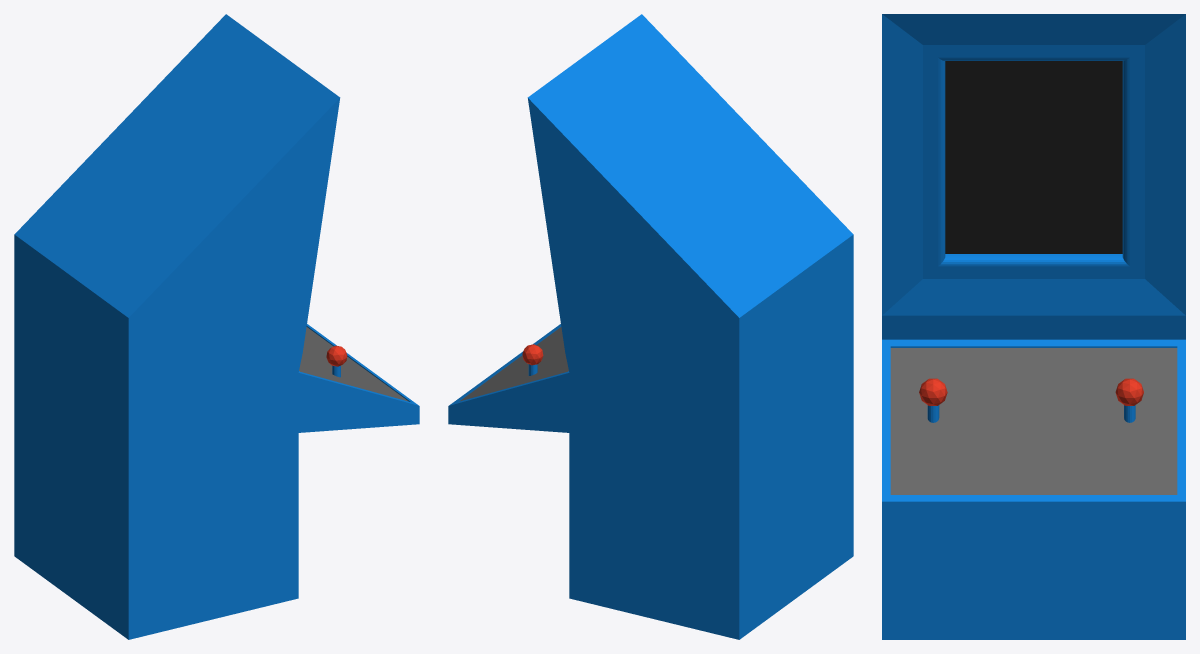
Rendered from arcade1.fbx.
3 renders of one model, left to right at view 1: azimuth 30°, elevation 25°; view 2: azimuth 150°, elevation 25°; view 3: azimuth 270°, elevation 25°, orthographic. The views are drawn at different scales.
Visible parts, largest first — view 1: Arcade; view 2: Arcade; view 3: Arcade.
Part boxes in pixels (x1,y1,x2,y2): Arcade: (14, 14, 419, 639); Arcade: (448, 14, 853, 639); Arcade: (882, 14, 1185, 639).
Size of the model in its own units: 322 by 519 by 219.
